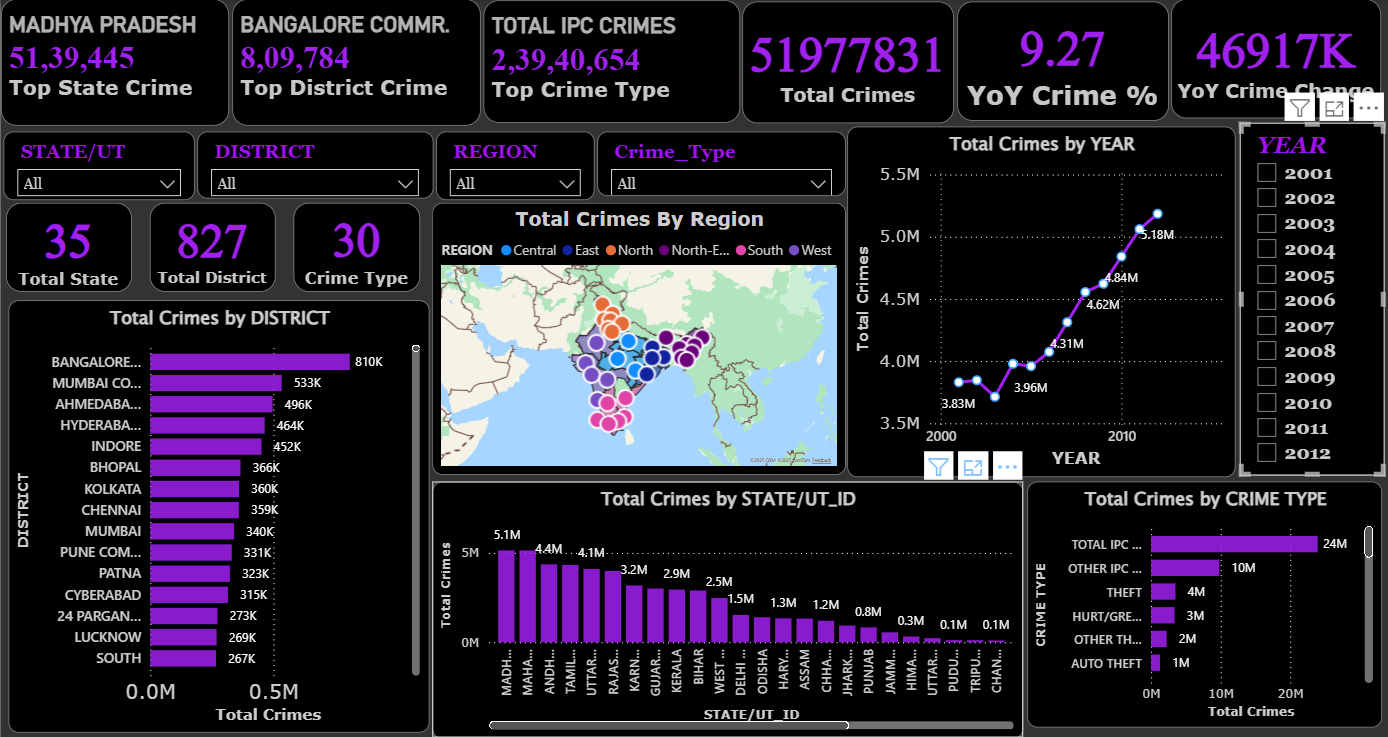

The page's visual inventory and layout, read from the dashboard file:
{"tool":"powerbi","page":{"name":"Page 1","canvas":[1366,730],"ordinal":0},"visuals":[{"type":"actionButton","box":[0,0,100,40],"z":0},{"type":"lineChart","fields":{"Category":["Dim_Year.YEAR"],"Y":["Fact_Crimes.CrimeCount"]},"box":[828.6,124.3,380,342.9],"z":1000},{"type":"clusteredBarChart","fields":{"Category":["Fact_Crimes.Crime_Type"],"Y":["Fact_Crimes.Total Crimes"]},"box":[1003.9,471.5,347.5,240.7],"z":2000},{"type":"azureMap","title":"Total Crimes By Region","fields":{"Category":["Dim_District.STATE/UT"],"Series":["Dim_Region.REGION"]},"box":[421.9,199.8,404.5,266.8],"z":3000},{"type":"card","fields":{"Values":["Fact_Crimes.Total Crimes"]},"box":[725,2.5,207.2,119.1],"z":4000},{"type":"card","fields":{"Values":["ALL MEASURES.YoY Crime Change"]},"box":[1145.4,0,206,116.6],"z":5000},{"type":"card","fields":{"Values":["ALL MEASURES.YoY Crime %"]},"box":[935.7,2.5,207.2,116.6],"z":6000},{"type":"multiRowCard","fields":{"Values":["ALL MEASURES.Top State Crime","ALL MEASURES.Top State Name"]},"box":[0,0,223.6,124.2],"z":7000},{"type":"slicer","fields":{"Values":["Dim_State.STATE/UT_ID"]},"box":[2.5,129.1,187.4,67],"z":8000},{"type":"slicer","fields":{"Values":["Dim_Year.YEAR"]},"box":[1212.4,121.6,141.5,345],"z":9000},{"type":"slicer","fields":{"Values":["Fact_Crimes.Crime_Type"]},"box":[583.2,129.1,243.2,63.3],"z":10000},{"type":"clusteredBarChart","fields":{"Y":["Fact_Crimes.Total Crimes"],"Category":["Dim_District.DISTRICT"]},"box":[7.4,295.3,412,423.2],"z":11000},{"type":"slicer","fields":{"Values":["Dim_Region.REGION"]},"box":[425.6,129.1,155.1,67],"z":12000},{"type":"card","fields":{"Values":["ALL MEASURES.District Count"]},"box":[145.2,199.8,122.9,86.9],"z":13000},{"type":"card","fields":{"Values":["ALL MEASURES.Distinct Crime Types"]},"box":[286.7,199.8,124.1,86.9],"z":14000},{"type":"card","fields":{"Values":["ALL MEASURES.State Count"]},"box":[5,199.8,122.9,86.9],"z":15000},{"type":"multiRowCard","fields":{"Values":["ALL MEASURES.Top Crime Type Name","ALL MEASURES.Top Crime Type Count"]},"box":[472,1.3,251,120.3],"z":16000},{"type":"multiRowCard","fields":{"Values":["ALL MEASURES.Top District Name","ALL MEASURES.Top District Crime"]},"box":[226.2,0,243.2,124.2],"z":17000},{"type":"slicer","fields":{"Values":["Dim_District.DISTRICT"]},"box":[192.3,129.1,230.8,65.8],"z":18000},{"type":"lineClusteredColumnComboChart","fields":{"Category":["Dim_State.STATE/UT_ID"],"Y":["Fact_Crimes.Total Crimes"]},"box":[421.9,471.5,578.3,251.9],"z":19000}]}

Visuals, with their boxes on the page's 1366x730 design canvas (x1, y1, x2, y2). These are canvas units, not pixel positions in the 1388x737 screenshot, which may show the page scaled, cropped or inside an application window:
actionButton: {"left": 0, "top": 0, "right": 100, "bottom": 40}
lineChart - Dim_Year.YEAR x Fact_Crimes.CrimeCount: {"left": 829, "top": 124, "right": 1209, "bottom": 467}
clusteredBarChart - Fact_Crimes.Crime_Type x Fact_Crimes.Total Crimes: {"left": 1004, "top": 472, "right": 1351, "bottom": 712}
"Total Crimes By Region" azureMap: {"left": 422, "top": 200, "right": 826, "bottom": 467}
card - Fact_Crimes.Total Crimes: {"left": 725, "top": 2, "right": 932, "bottom": 122}
card - ALL MEASURES.YoY Crime Change: {"left": 1145, "top": 0, "right": 1351, "bottom": 117}
card - ALL MEASURES.YoY Crime %: {"left": 936, "top": 2, "right": 1143, "bottom": 119}
multiRowCard - ALL MEASURES.Top State Crime x ALL MEASURES.Top State Name: {"left": 0, "top": 0, "right": 224, "bottom": 124}
slicer - Dim_State.STATE/UT_ID: {"left": 2, "top": 129, "right": 190, "bottom": 196}
slicer - Dim_Year.YEAR: {"left": 1212, "top": 122, "right": 1354, "bottom": 467}
slicer - Fact_Crimes.Crime_Type: {"left": 583, "top": 129, "right": 826, "bottom": 192}
clusteredBarChart - Fact_Crimes.Total Crimes x Dim_District.DISTRICT: {"left": 7, "top": 295, "right": 419, "bottom": 718}
slicer - Dim_Region.REGION: {"left": 426, "top": 129, "right": 581, "bottom": 196}
card - ALL MEASURES.District Count: {"left": 145, "top": 200, "right": 268, "bottom": 287}
card - ALL MEASURES.Distinct Crime Types: {"left": 287, "top": 200, "right": 411, "bottom": 287}
card - ALL MEASURES.State Count: {"left": 5, "top": 200, "right": 128, "bottom": 287}
multiRowCard - ALL MEASURES.Top Crime Type Name x ALL MEASURES.Top Crime Type Count: {"left": 472, "top": 1, "right": 723, "bottom": 122}
multiRowCard - ALL MEASURES.Top District Name x ALL MEASURES.Top District Crime: {"left": 226, "top": 0, "right": 469, "bottom": 124}
slicer - Dim_District.DISTRICT: {"left": 192, "top": 129, "right": 423, "bottom": 195}
lineClusteredColumnComboChart - Dim_State.STATE/UT_ID x Fact_Crimes.Total Crimes: {"left": 422, "top": 472, "right": 1000, "bottom": 723}
